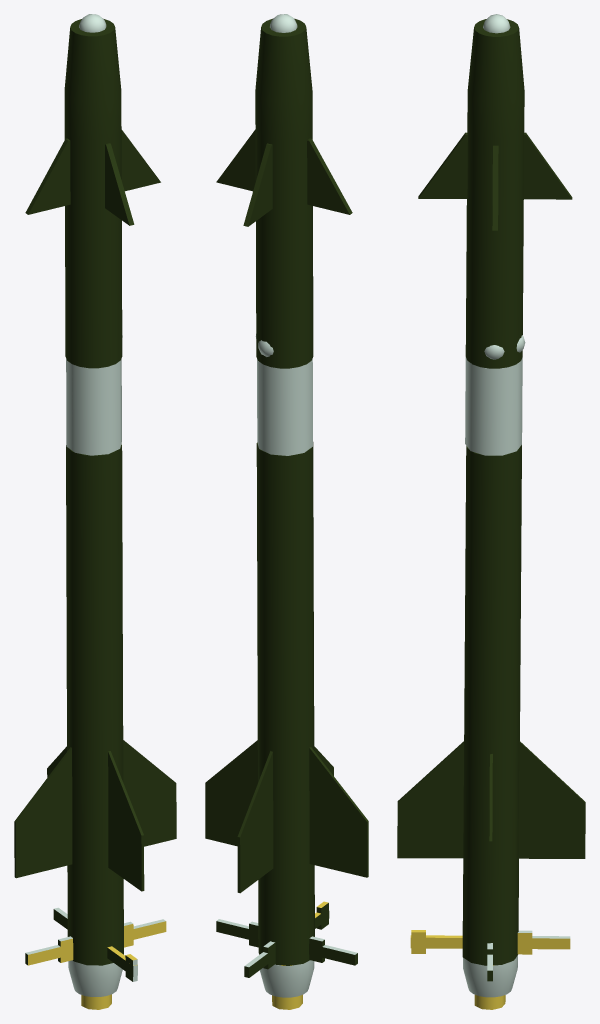
The model's file is ROCKET.FBX.
3 renders of one model, left to right at view 1: azimuth 30°, elevation 25°; view 2: azimuth 150°, elevation 25°; view 3: azimuth 270°, elevation 25°, orthographic.
Visible parts, largest first — view 1: Box003; view 2: Box003; view 3: Box003.
Part boxes in pixels (box(x1,y1,x2,y2)): Box003: box(14, 14, 176, 1009); Box003: box(205, 14, 368, 1009); Box003: box(397, 14, 585, 1009).
Size of the model in its own units: 21.84 by 128 by 22.12.
